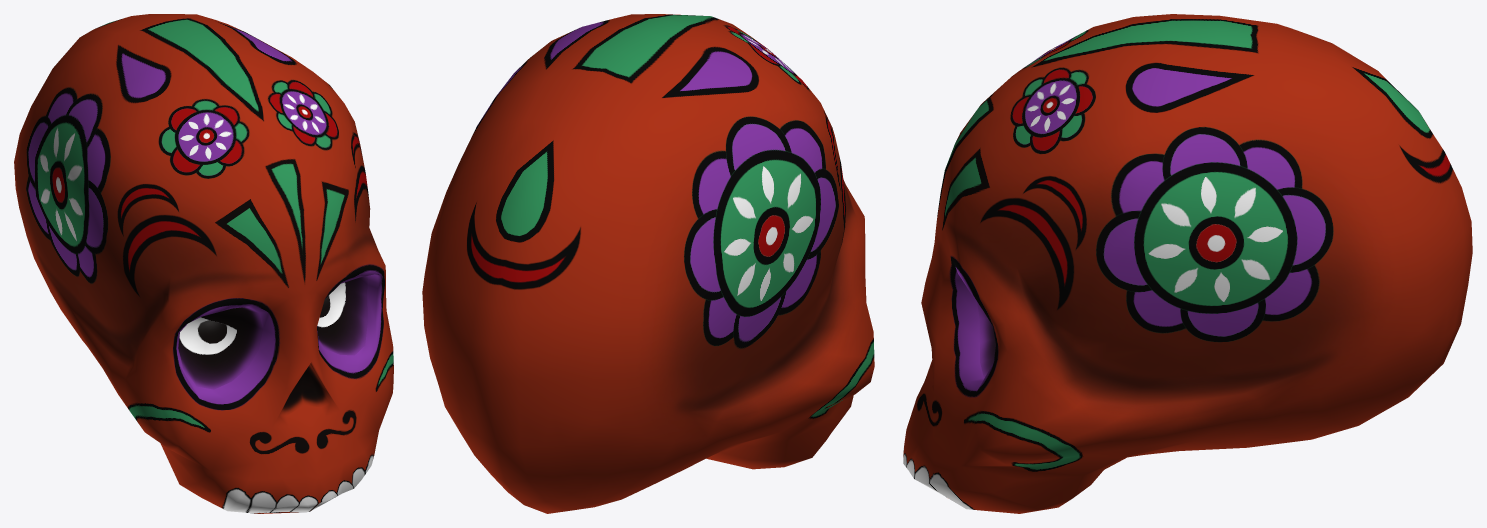
The model's file is mod_skull_a.fbx.
The picture shows the model from 3 angles, left to right: view 1: azimuth 30°, elevation 25°; view 2: azimuth 150°, elevation 25°; view 3: azimuth 270°, elevation 25°; orthographic projection. The views are drawn at different scales.
Visible parts, largest first — view 1: pCube1; view 2: pCube1; view 3: pCube1.
Boxes of the visible parts, x1,y1,x2,y2 form: pCube1: (14, 14, 393, 513); pCube1: (422, 14, 874, 513); pCube1: (903, 14, 1472, 513).
Size of the model in its own units: 385 by 559 by 636.
